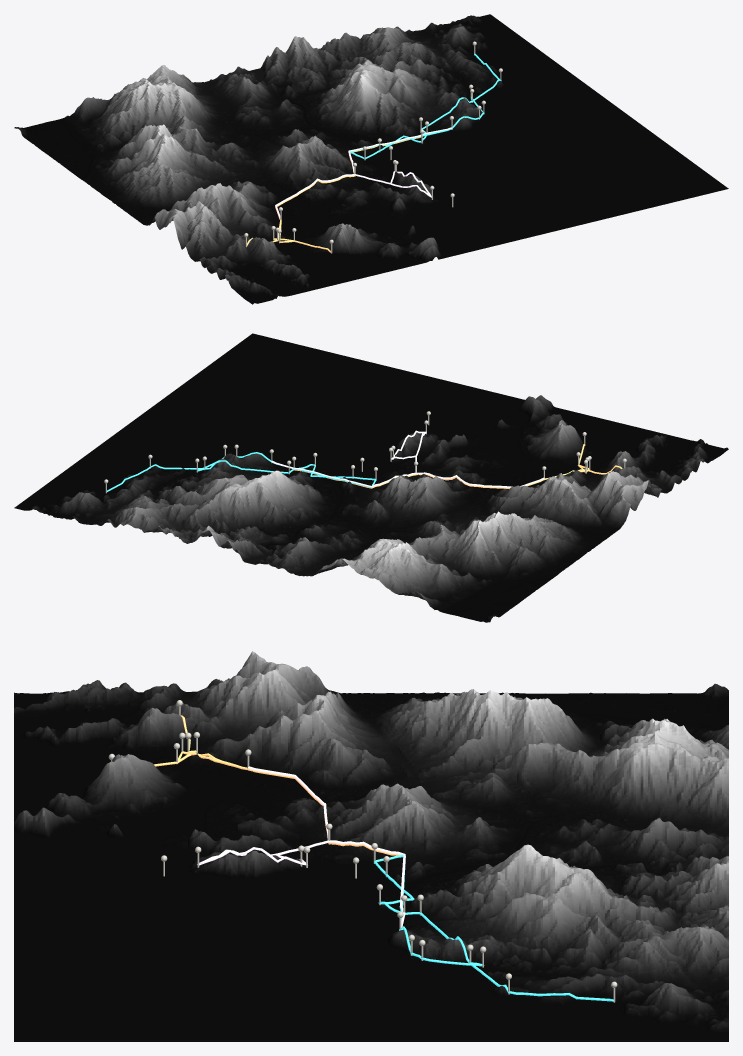
The model's file is BusanMap.glb.
3 renders of one model, top to bottom at view 1: azimuth 30°, elevation 25°; view 2: azimuth 150°, elevation 25°; view 3: azimuth 270°, elevation 25°, orthographic. The views are drawn at different scales.
Visible parts, largest first — view 1: MAP01_BusanMap_Terrain_L0, MAP01_BusanMap_RouteDay3_L0, MAP01_BusanMap_RouteDay2_L0, MAP01_BusanMap_RouteDay1_L0; view 2: MAP01_BusanMap_Terrain_L0, MAP01_BusanMap_RouteDay2_L0, MAP01_BusanMap_RouteDay3_L0, MAP01_BusanMap_RouteDay1_L0; view 3: MAP01_BusanMap_Terrain_L0, MAP01_BusanMap_RouteDay2_L0, MAP01_BusanMap_RouteDay3_L0, MAP01_BusanMap_RouteDay1_L0.
Boxes of the visible parts, box(x1,y1,x2,y2) form: MAP01_BusanMap_Terrain_L0: box(14, 14, 728, 304); MAP01_BusanMap_RouteDay3_L0: box(275, 127, 451, 218); MAP01_BusanMap_RouteDay2_L0: box(350, 53, 501, 159); MAP01_BusanMap_RouteDay1_L0: box(247, 137, 420, 252); MAP01_BusanMap_Terrain_L0: box(14, 333, 728, 622); MAP01_BusanMap_RouteDay2_L0: box(107, 452, 376, 491); MAP01_BusanMap_RouteDay3_L0: box(271, 430, 544, 487); MAP01_BusanMap_RouteDay1_L0: box(294, 444, 622, 488); MAP01_BusanMap_Terrain_L0: box(14, 651, 728, 1041); MAP01_BusanMap_RouteDay2_L0: box(374, 855, 613, 1001); MAP01_BusanMap_RouteDay3_L0: box(197, 766, 405, 927); MAP01_BusanMap_RouteDay1_L0: box(154, 715, 400, 908).
Bounding box in the file's own units: 2.55 × 0.1907 × 2.21.
Materials: 5 (1 with a texture image).
